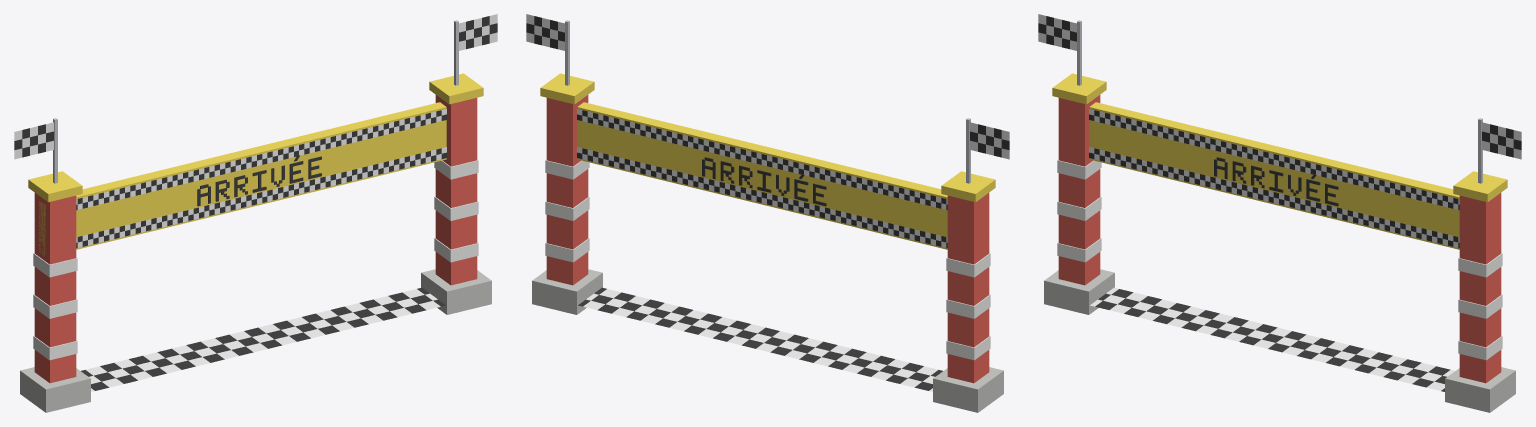
The model's file is Arrivee.fbx.
3 views of the same model, side by side, from view 1: azimuth 30°, elevation 25°; view 2: azimuth 150°, elevation 25°; view 3: azimuth 330°, elevation 25° (orthographic).
Parts seen in each view (by area): view 1: Arche_Arrivee, Ligne_Arrivee; view 2: Arche_Arrivee, Ligne_Arrivee; view 3: Arche_Arrivee, Ligne_Arrivee.
Part boxes in pixels (left/top/right/bottom): Arche_Arrivee: left=14, top=14, right=497, bottom=412; Ligne_Arrivee: left=81, top=287, right=445, bottom=391; Arche_Arrivee: left=526, top=14, right=1009, bottom=412; Ligne_Arrivee: left=578, top=287, right=942, bottom=391; Arche_Arrivee: left=1038, top=14, right=1521, bottom=412; Ligne_Arrivee: left=1090, top=287, right=1454, bottom=391.
Size of the model in its own units: 18.32 by 10.1 by 1.7.
